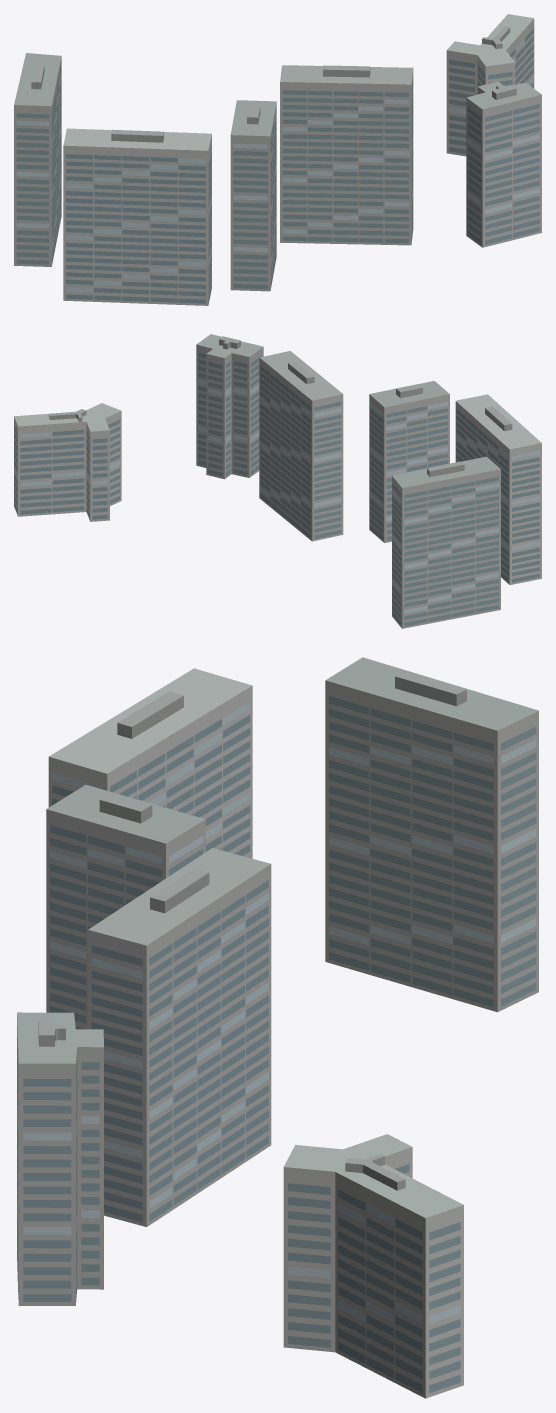
File: apt-a13080201.glb
The picture shows the model from 3 angles, top to bottom: view 1: azimuth 30°, elevation 25°; view 2: azimuth 150°, elevation 25°; view 3: azimuth 270°, elevation 25°; orthographic projection. The views are drawn at different scales.
Visible parts, largest first — view 1: apt-a13080201; view 2: apt-a13080201; view 3: apt-a13080201.
Boxes of the visible parts, left/top/right/bottom form: apt-a13080201: left=14, top=14, right=541, bottom=305; apt-a13080201: left=14, top=334, right=541, bottom=628; apt-a13080201: left=17, top=657, right=538, bottom=1398.
Bounding box in the file's own units: 198 × 59 × 95.16.
